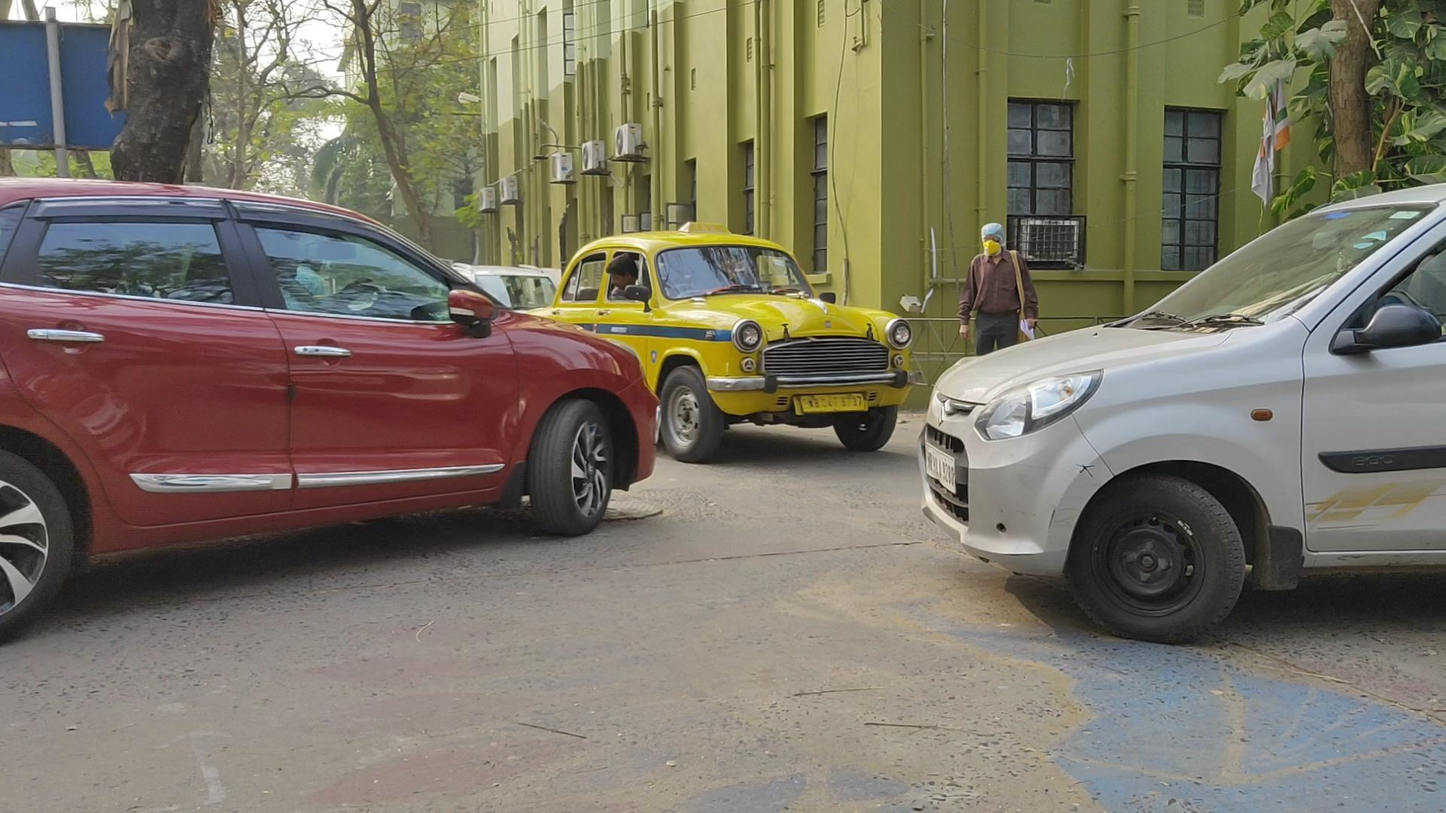car: (1, 175, 662, 644), (921, 181, 1446, 642), (514, 223, 913, 464)
